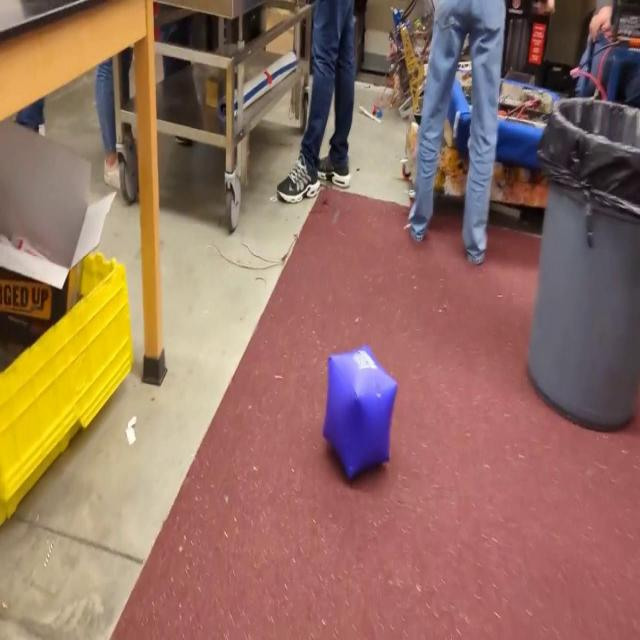frc_cube: (323, 340, 397, 484)
